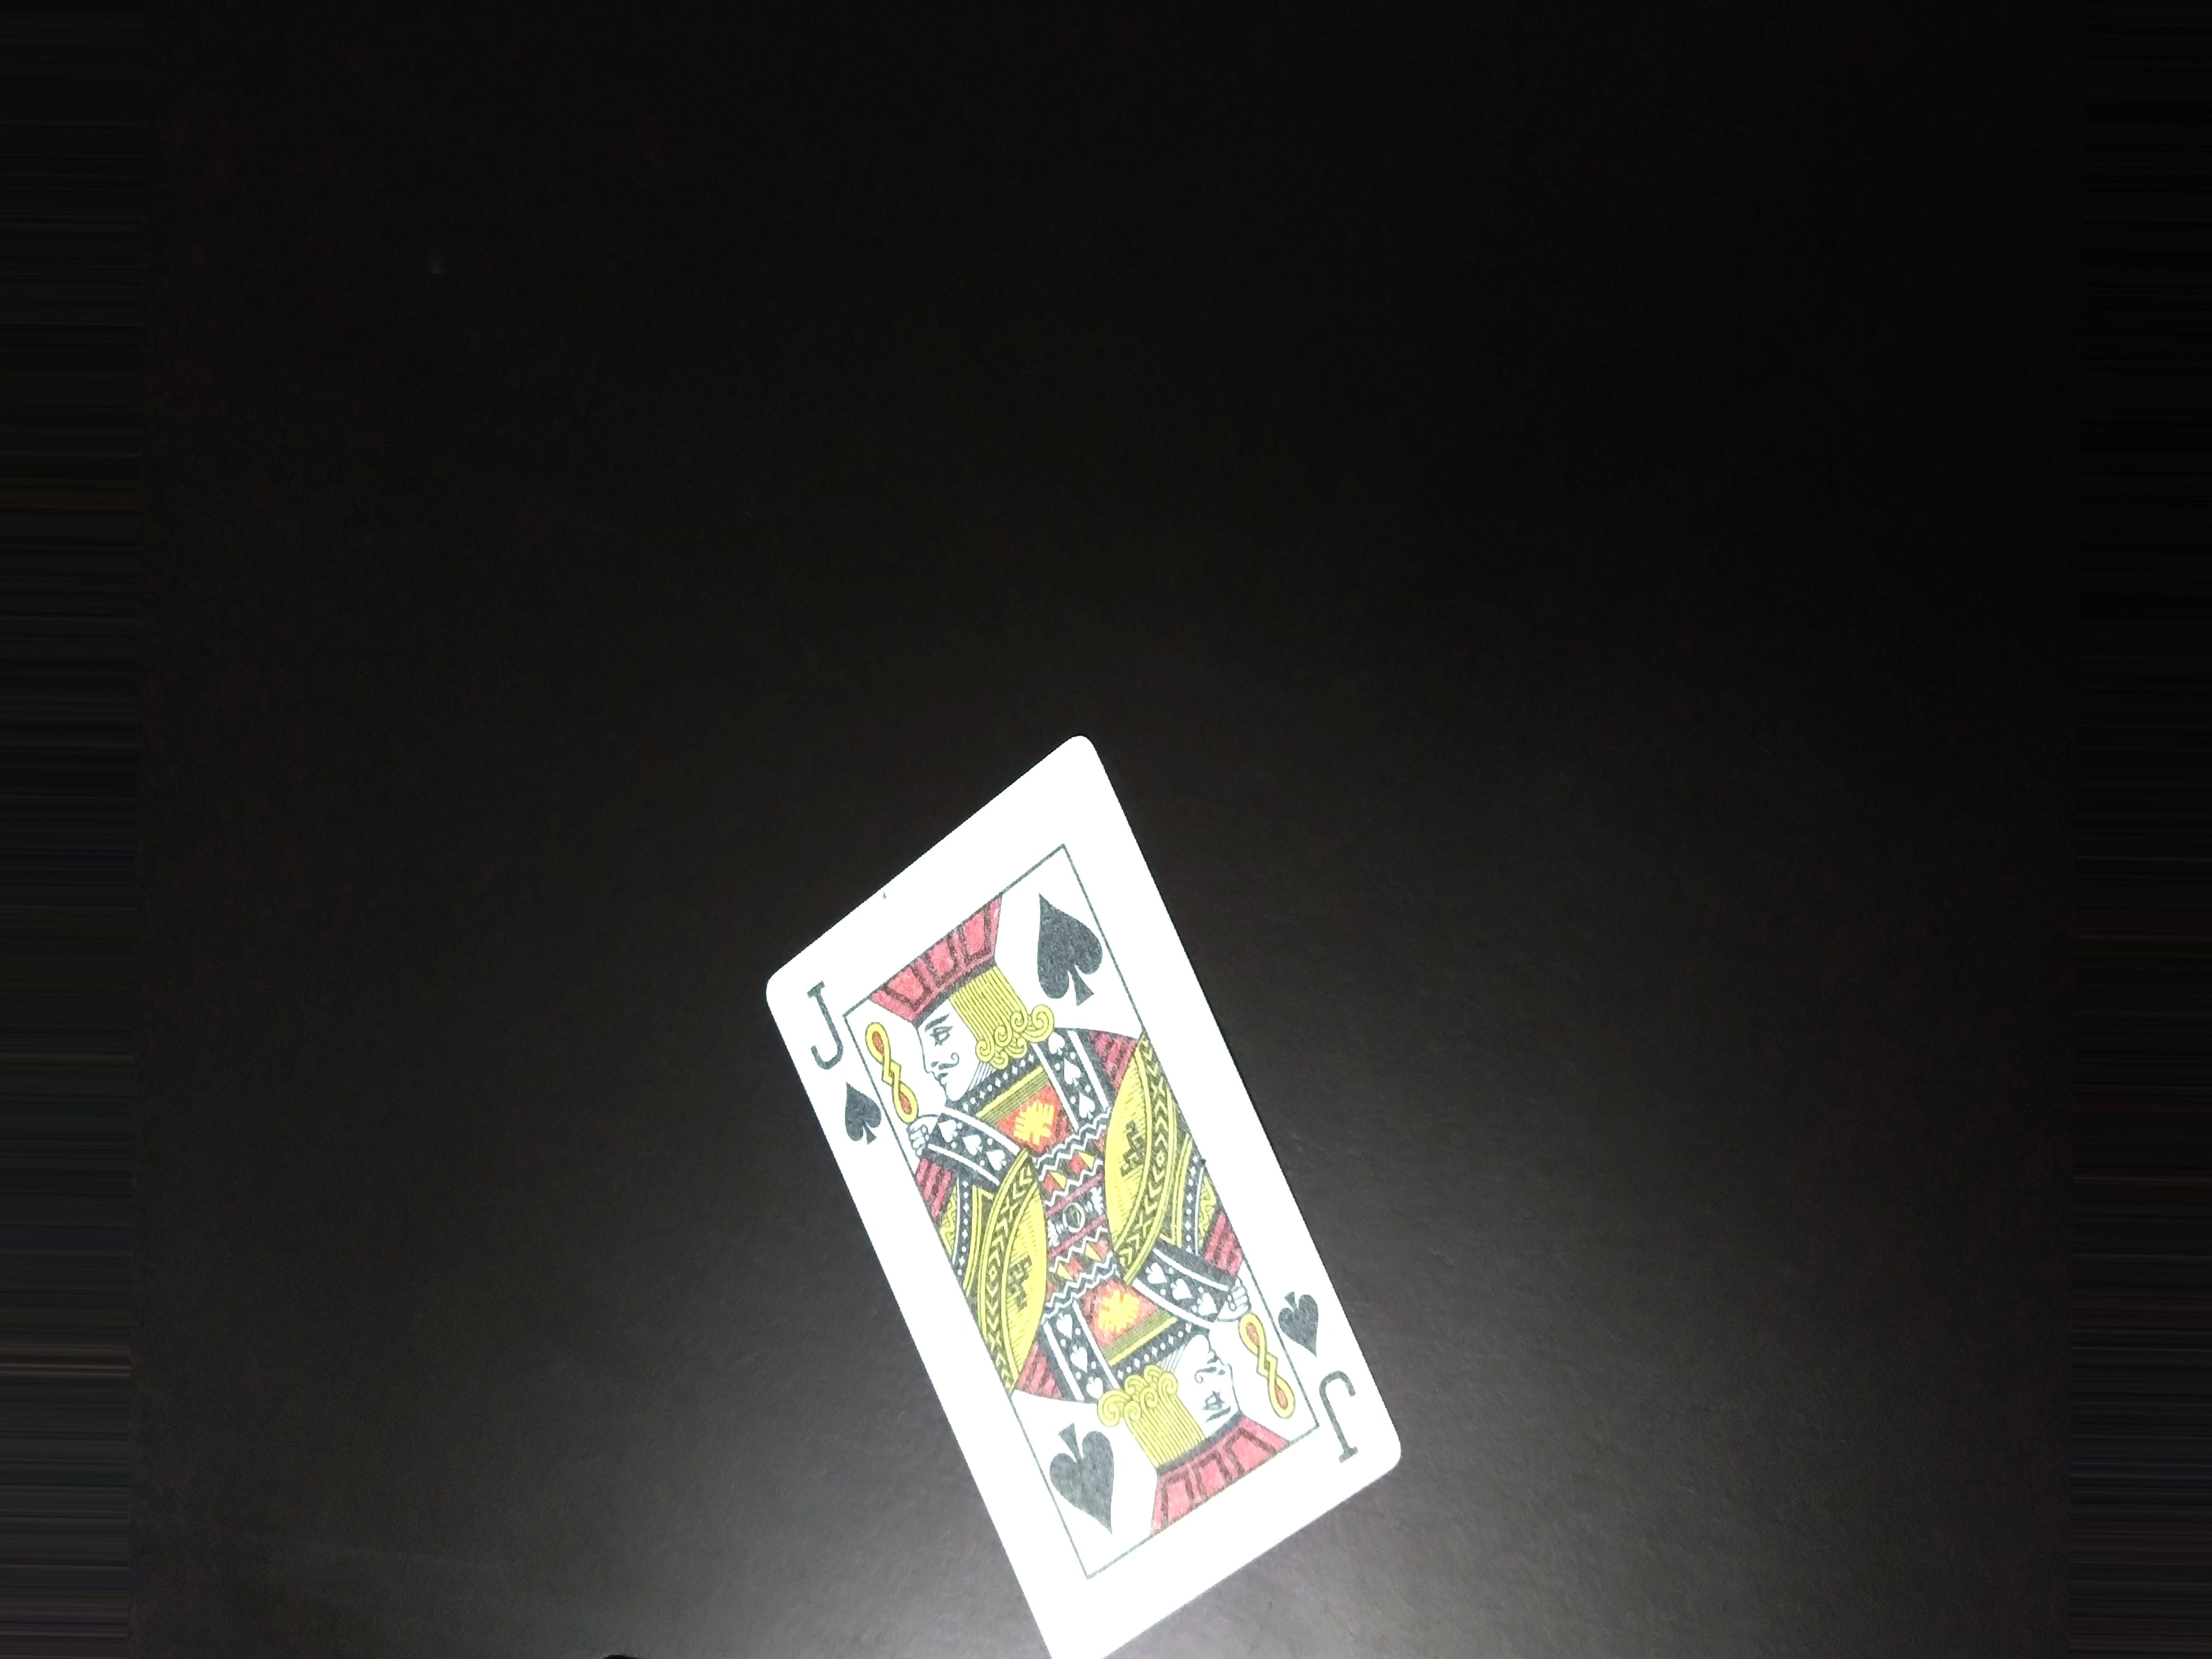JS: (799, 967, 860, 1152)
